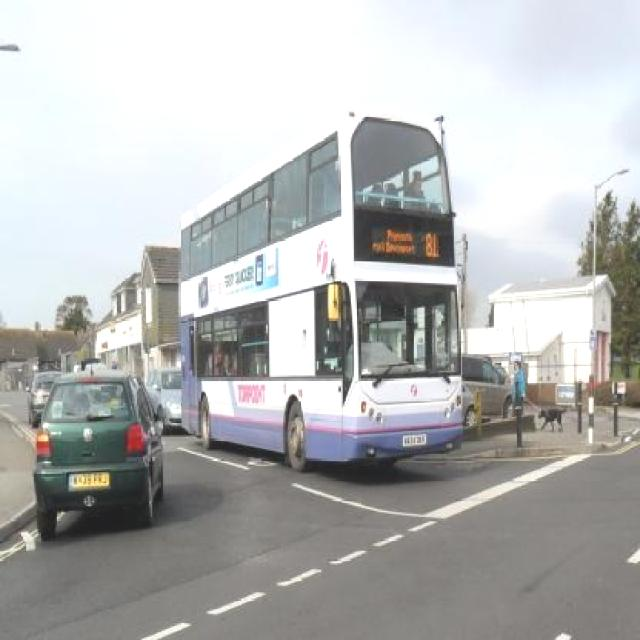Bus: (176, 108, 477, 473)
Car: (31, 372, 170, 550)
